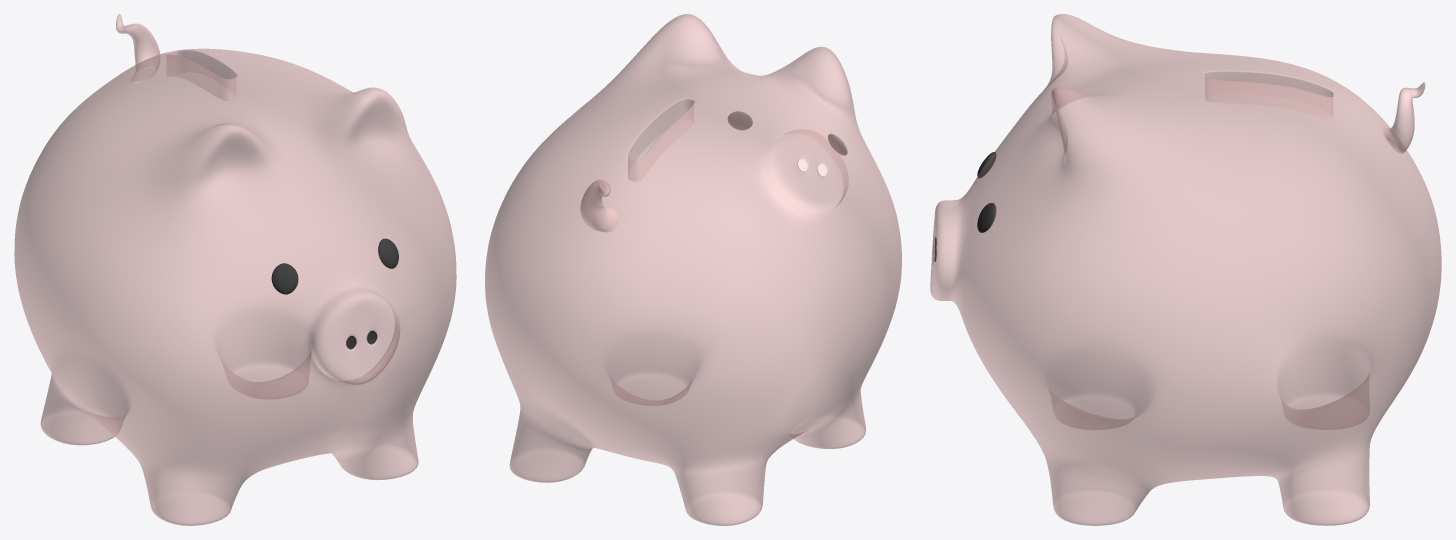
Rendered from Pig_Visual.glb.
The picture shows the model from 3 angles, left to right: view 1: azimuth 30°, elevation 25°; view 2: azimuth 150°, elevation 25°; view 3: azimuth 270°, elevation 25°; orthographic projection. The views are drawn at different scales.
Parts seen in each view (by area): view 1: Pig_Visual; view 2: Pig_Visual; view 3: Pig_Visual.
Part boxes in pixels (x1=…): Pig_Visual: x1=14, y1=14, x2=456, y2=525; Pig_Visual: x1=485, y1=14, x2=901, y2=525; Pig_Visual: x1=930, y1=14, x2=1441, y2=525.
Size of what is drawn, in the model's own units: 2.73 by 2.84 by 3.2.
